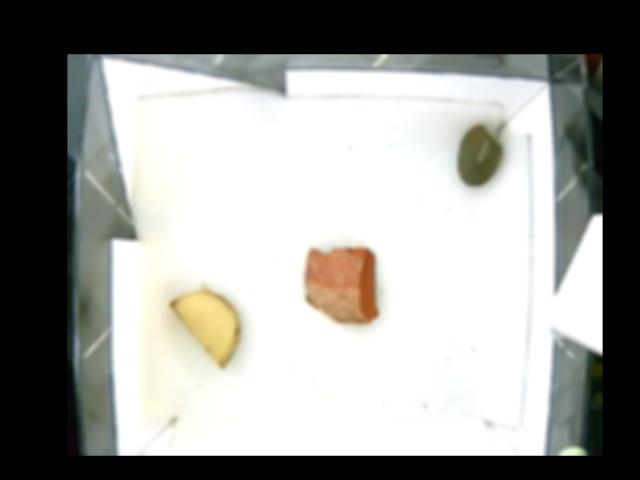Brisk: (304, 245, 377, 327)
Pebble: (453, 124, 504, 188)
Potato: (167, 290, 246, 371)
